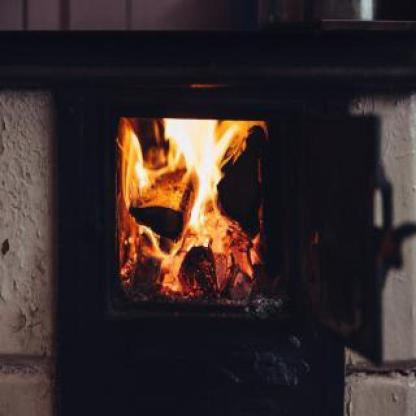fire: (114, 118, 266, 292)
